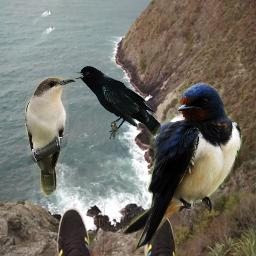Crow: (71, 66, 163, 140)
Cuckoo: (25, 77, 76, 197)
Swallow: (121, 82, 243, 253)
